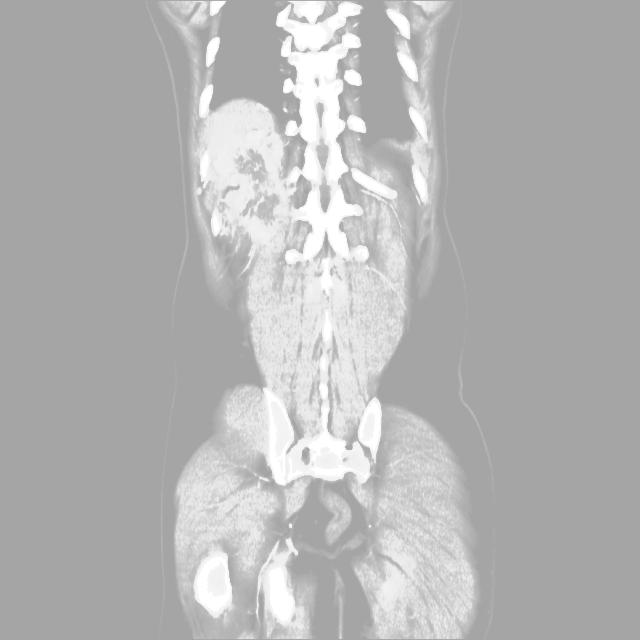TUMOR: (137, 158, 509, 437)
